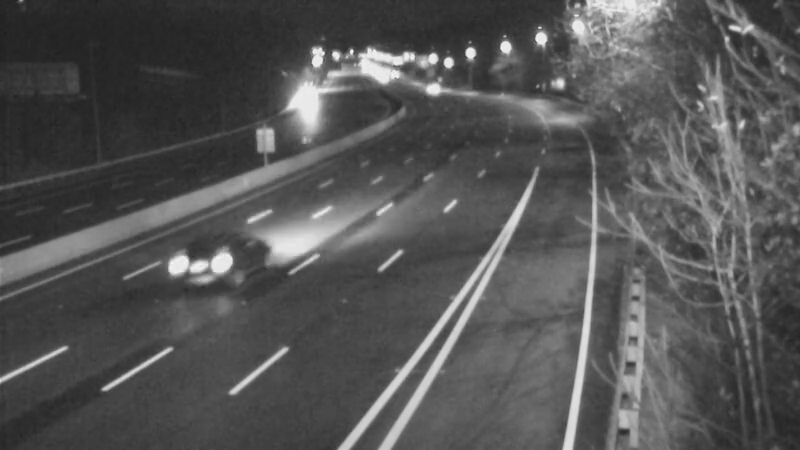vehicle: (181, 224, 261, 304), (407, 62, 457, 112)
